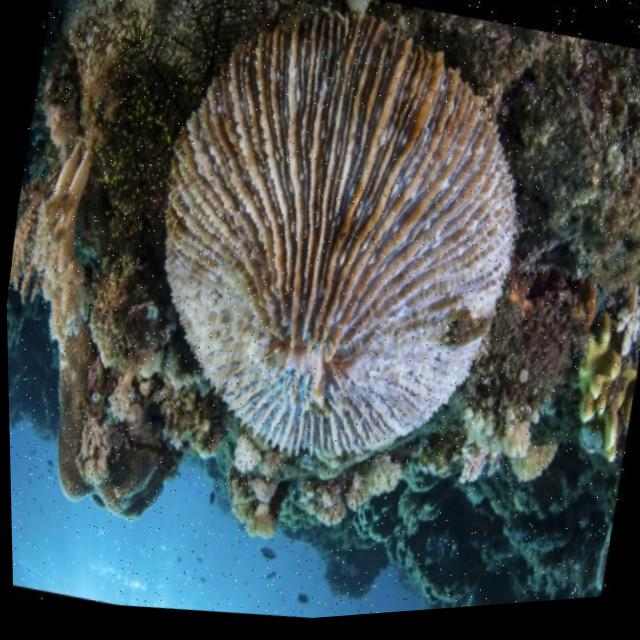Healthy Coral: (99, 0, 583, 530)
